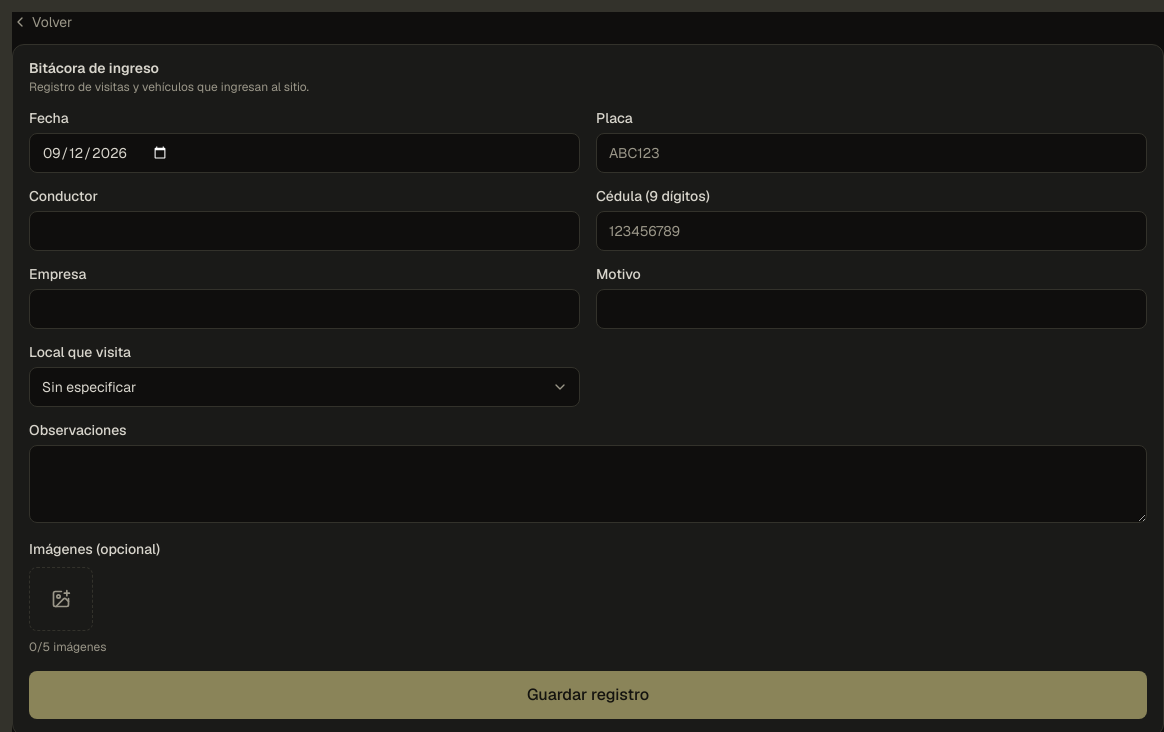
EntryLogForm › oculta el campo de detalle al elegir un local de la lista
Select "Otro" in the dropdown labelled "Local que visita" at (304, 387), box [29,367,580,407]
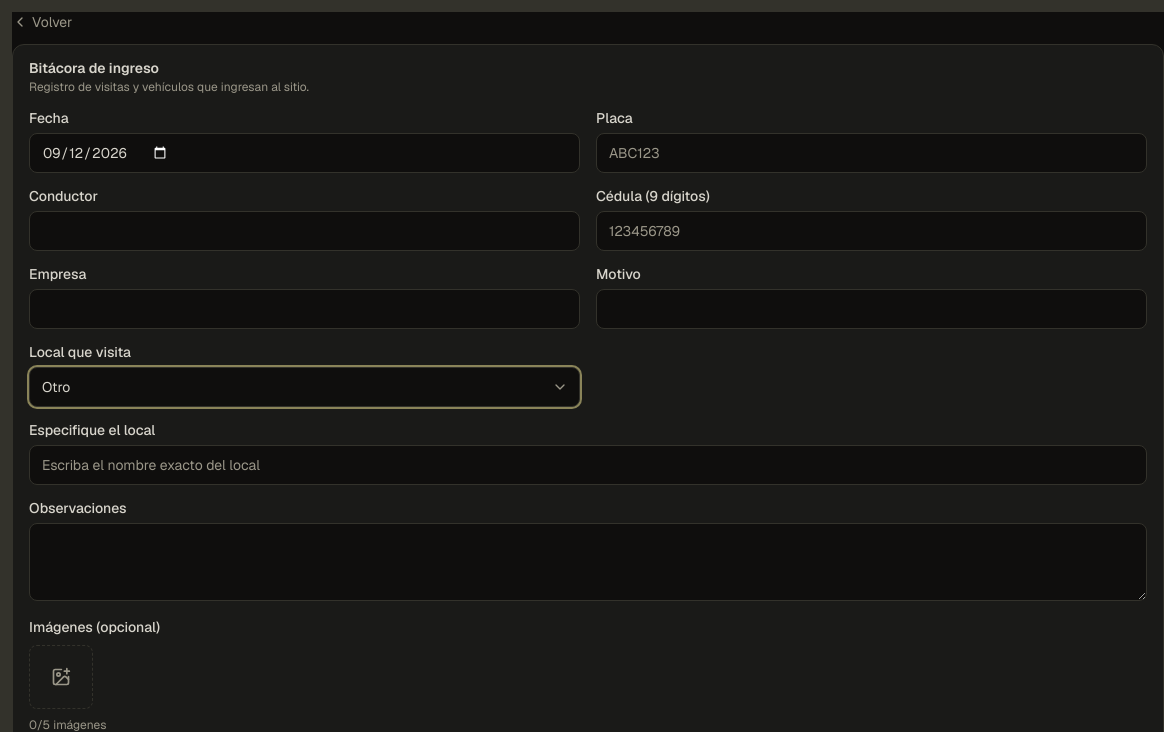
Expected: the field labelled "Especifique el local" is shown, [29,445,1147,485]
Select "MEP" in the dropdown labelled "Local que visita" at (304, 387), box [29,367,580,407]
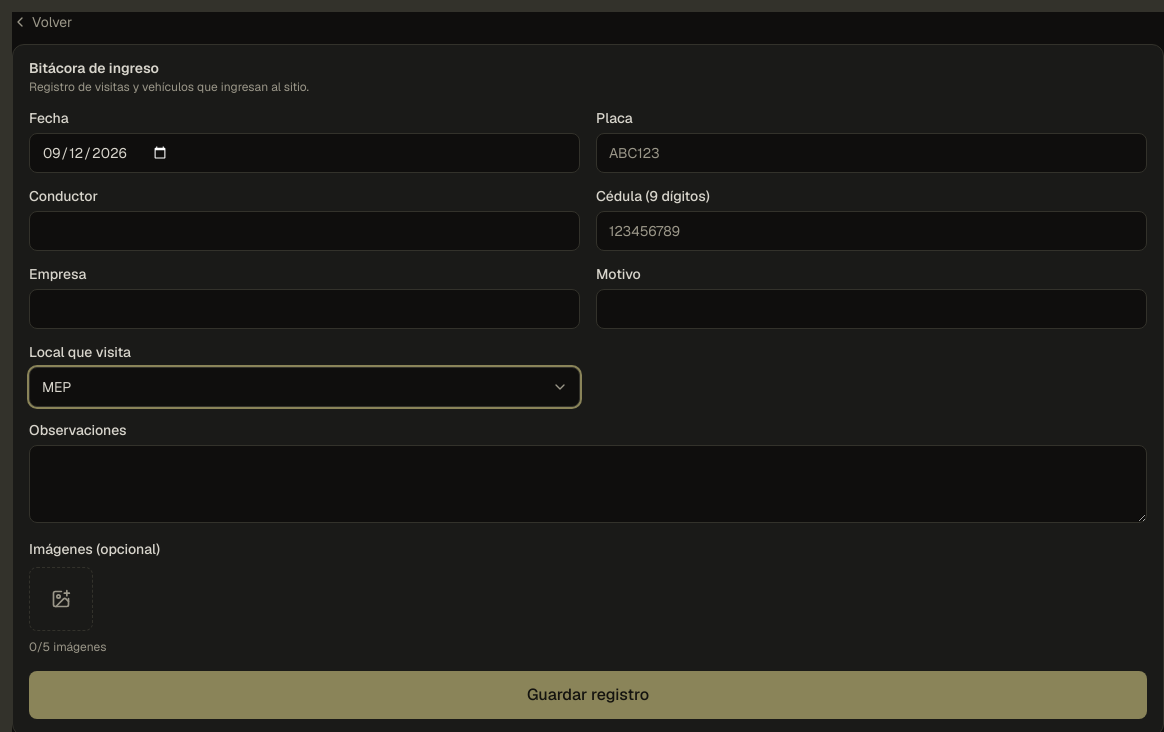
Expected: the label labelled "Especifique el local" is gone
